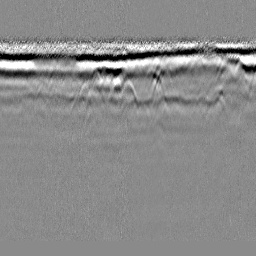cavity: (118, 79, 139, 108)
